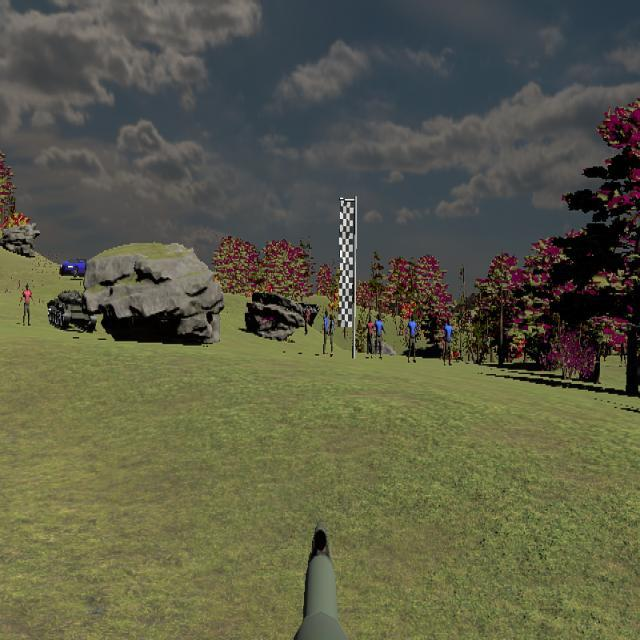Human: (405, 313, 420, 364), (18, 283, 35, 327), (442, 317, 455, 366), (372, 314, 386, 359)
Tank: (47, 289, 97, 333)
